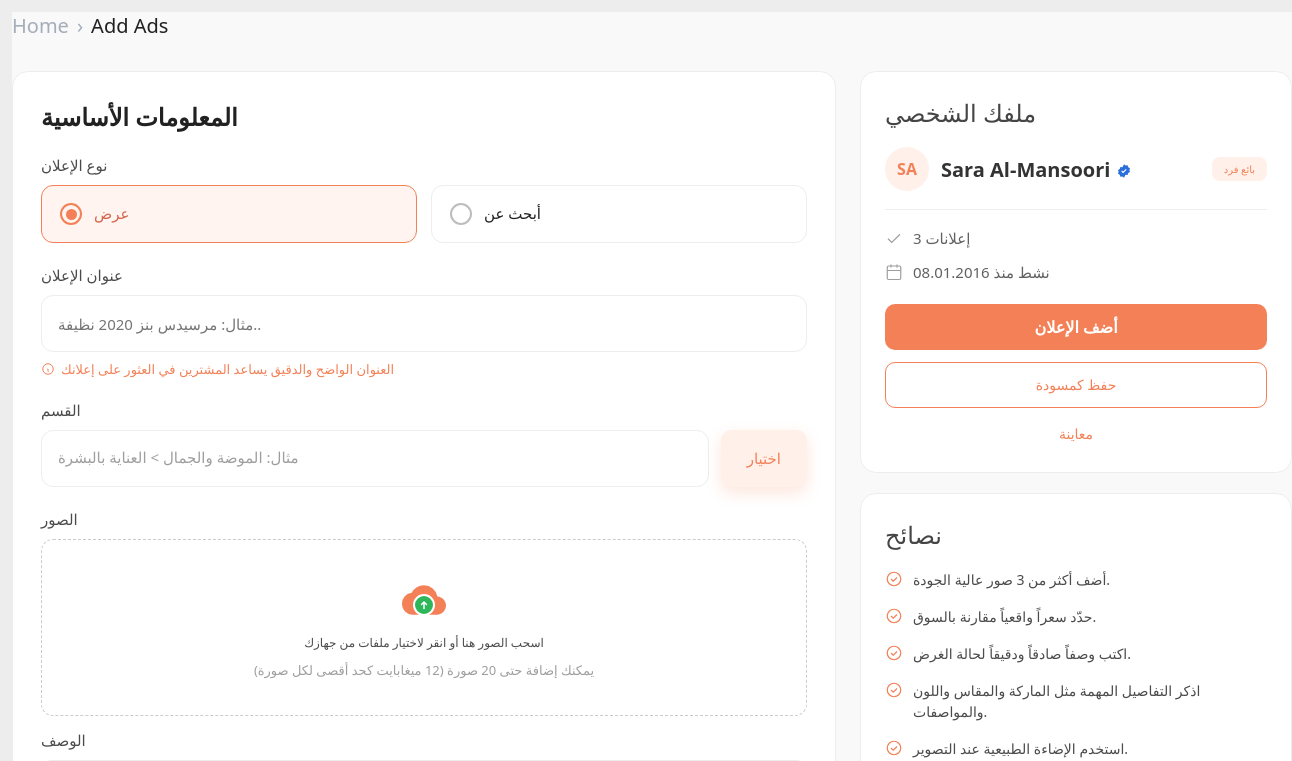
PostAdFlow › shows what is missing and focuses the first field instead of saving
The width and height of the screenshot is (1292, 761).
Check: the heading "المعلومات الأساسية" is shown, box 41,100 -> 238,133
Step 1. Click the button "حفظ كمسودة" → (1076,385), box 885,362 -> 1267,408
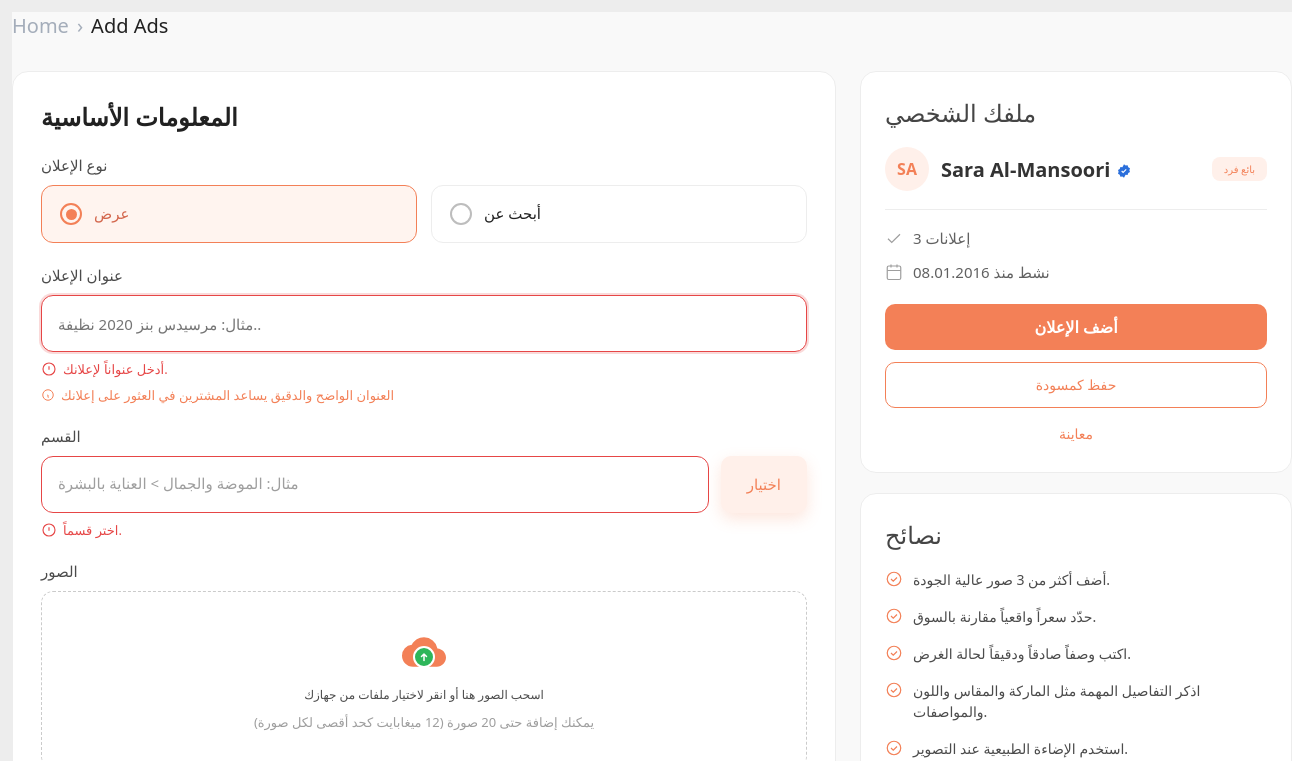
Check: the text "أدخل عنواناً لإعلانك." is shown, box 63,360 -> 168,378
